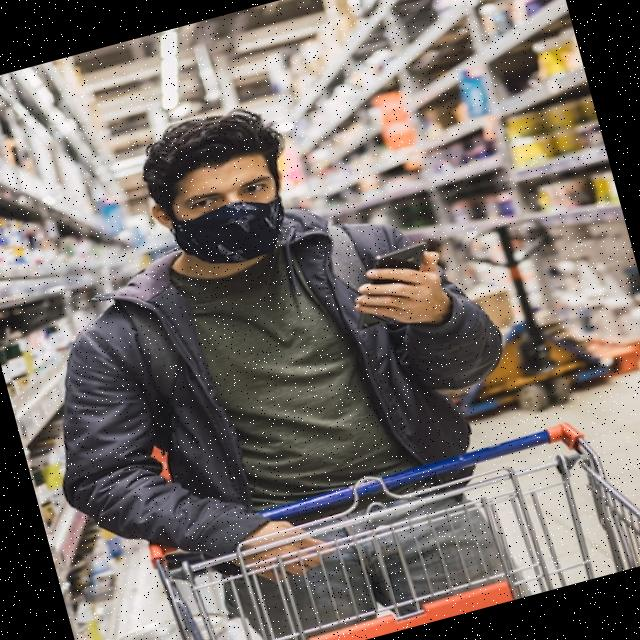Person: (0, 55, 569, 640)
